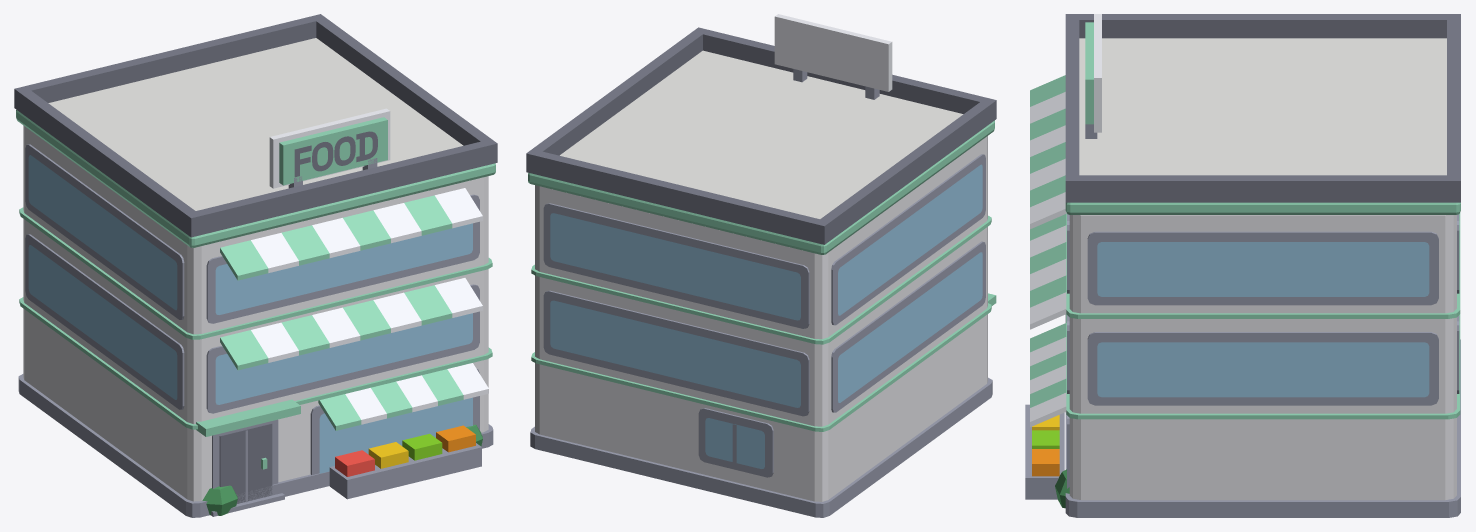
File: shop-food-1x1-t3-tone-a.glb
The picture shows the model from 3 angles, left to right: view 1: azimuth 30°, elevation 25°; view 2: azimuth 150°, elevation 25°; view 3: azimuth 270°, elevation 25°; orthographic projection. The views are drawn at different scales.
Visible parts, largest first — view 1: shop-food-1x1-t3-tone-a; view 2: shop-food-1x1-t3-tone-a; view 3: shop-food-1x1-t3-tone-a.
Boxes of the visible parts, x1=… form: shop-food-1x1-t3-tone-a: x1=14, y1=14, x2=497, y2=517; shop-food-1x1-t3-tone-a: x1=526, y1=14, x2=996, y2=517; shop-food-1x1-t3-tone-a: x1=1025, y1=14, x2=1460, y2=517.
Bounding box in the file's own units: 1 × 1.08 × 1.1.
1 material, 1 textured.
